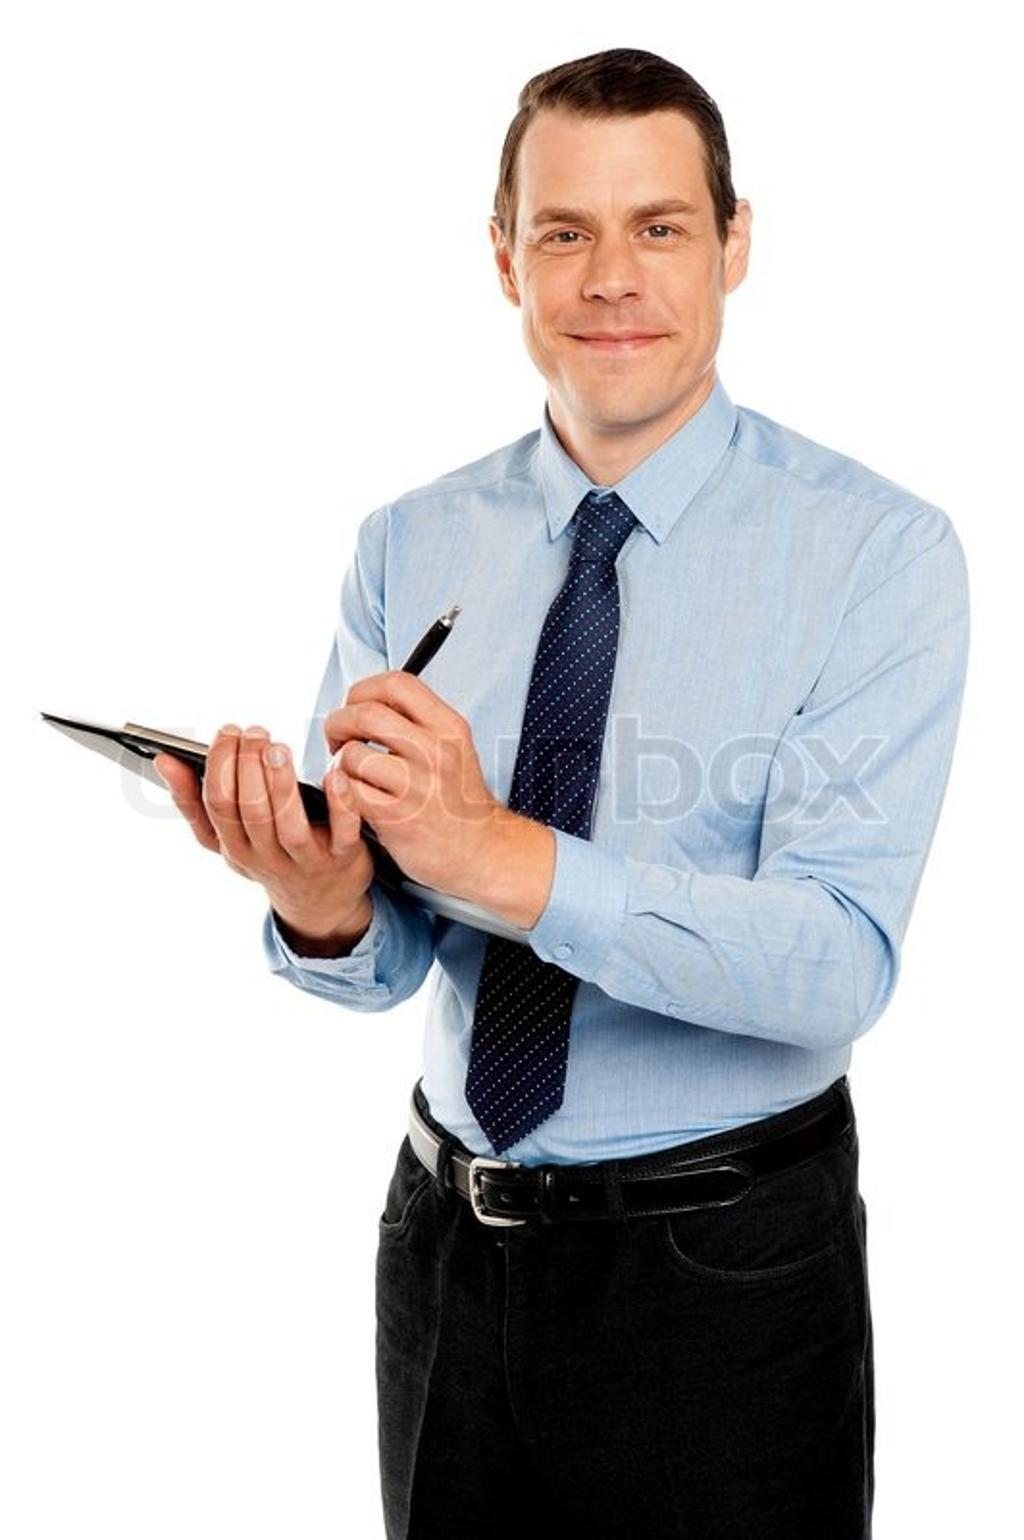face: (506, 117, 717, 430)
